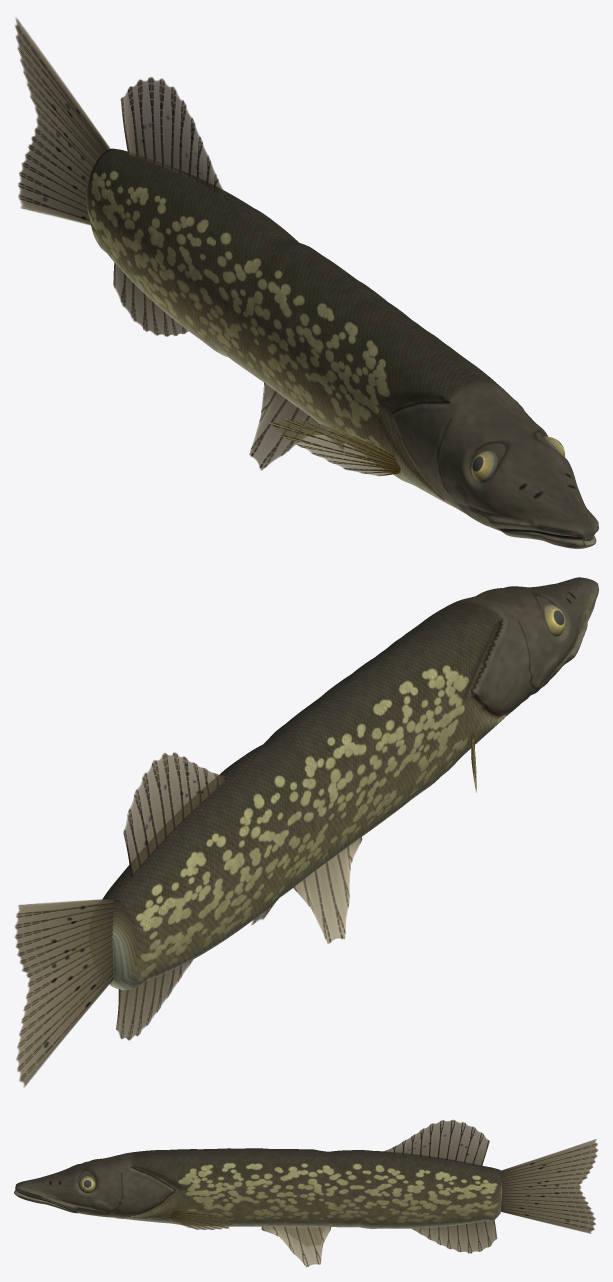
The model's file is szczupak.glb.
3 renders of one model, top to bottom at view 1: azimuth 30°, elevation 25°; view 2: azimuth 150°, elevation 25°; view 3: azimuth 270°, elevation 25°, orthographic. The views are drawn at different scales.
Visible parts, largest first — view 1: Body, FinCaudal, FinDorsal1, FinPectoral, FinPelvic, FinAnal; view 2: Body, FinCaudal, FinDorsal1, FinPelvic, FinAnal; view 3: Body, FinCaudal, FinDorsal1, FinAnal, FinPelvic, FinPectoral, EyeRight.
Boxes of the visible parts, bbox=[...] form: Body: bbox=[86, 148, 598, 548]; FinCaudal: bbox=[15, 17, 110, 225]; FinDorsal1: bbox=[120, 77, 225, 196]; FinPectoral: bbox=[269, 419, 400, 476]; FinPelvic: bbox=[249, 383, 343, 470]; FinAnal: bbox=[113, 262, 188, 336]; Body: bbox=[102, 577, 598, 990]; FinCaudal: bbox=[14, 898, 113, 1087]; FinDorsal1: bbox=[123, 752, 226, 876]; FinPelvic: bbox=[251, 837, 362, 943]; FinAnal: bbox=[116, 960, 192, 1040]; Body: bbox=[14, 1148, 501, 1228]; FinCaudal: bbox=[500, 1139, 598, 1233]; FinDorsal1: bbox=[384, 1119, 489, 1166]; FinAnal: bbox=[411, 1220, 497, 1253]; FinPelvic: bbox=[261, 1226, 330, 1267]; FinPectoral: bbox=[170, 1210, 234, 1229]; EyeRight: bbox=[79, 1176, 95, 1192].
Bounding box in the file's own units: 0.2076 × 0.2632 × 1.
Materials: 8 (7 with a texture image).
